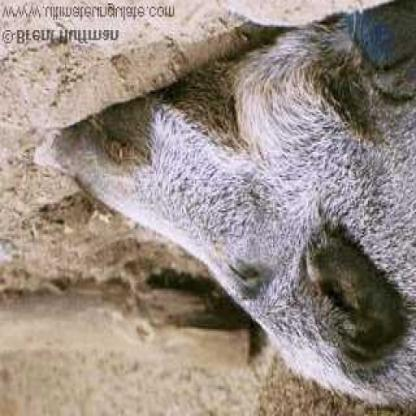boar: (52, 28, 415, 404)
